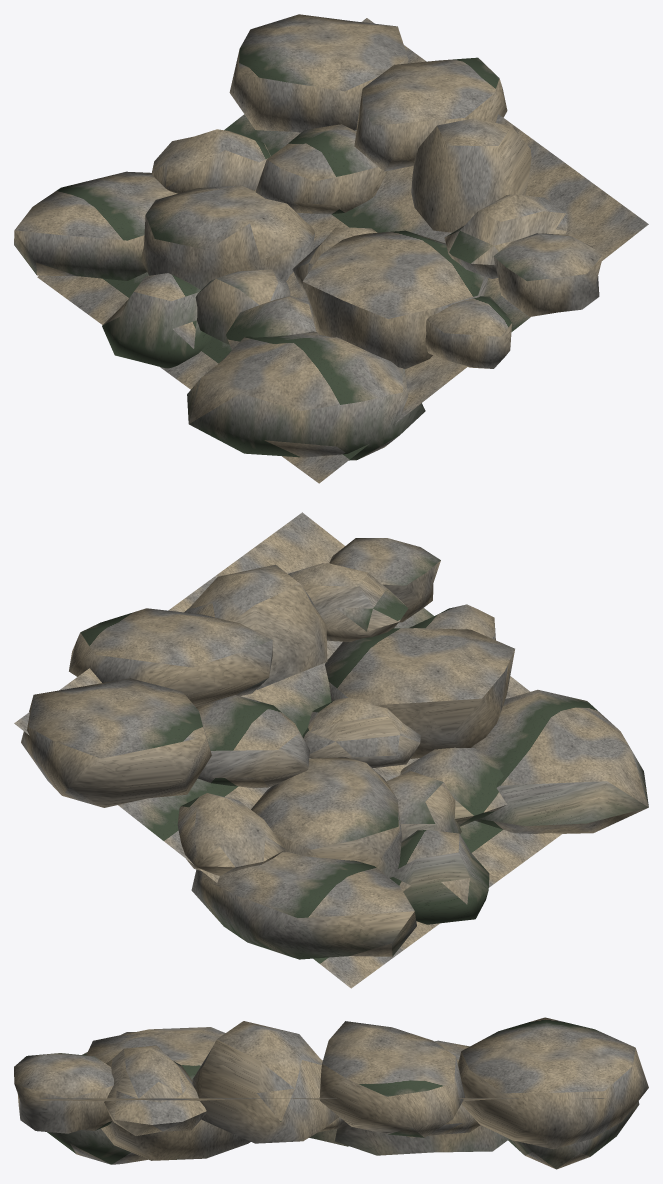
File: SM_Molo_Scogliera_B_v2.fbx
3 renders of one model, top to bottom at view 1: azimuth 30°, elevation 25°; view 2: azimuth 150°, elevation 25°; view 3: azimuth 270°, elevation 25°, orthographic. The views are drawn at different scales.
Visible parts, largest first — view 1: SM_Molo_Scogliera_B_v2; view 2: SM_Molo_Scogliera_B_v2; view 3: SM_Molo_Scogliera_B_v2.
Part boxes in pixels (x1=…): SM_Molo_Scogliera_B_v2: x1=14, y1=14, x2=648, y2=483; SM_Molo_Scogliera_B_v2: x1=14, y1=512, x2=648, y2=988; SM_Molo_Scogliera_B_v2: x1=14, y1=1017, x2=648, y2=1169.
Size of what is drawn, in the model's own units: 719 by 901 by 345.
1 material, 1 textured.
